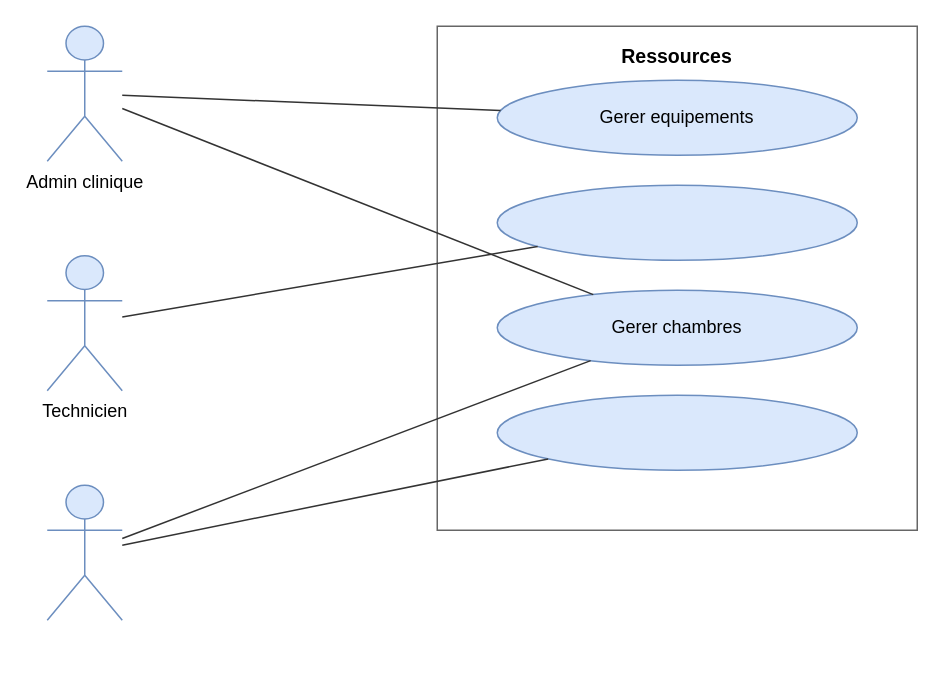
This 944x678 diagram has some shape labels left out. Here are the shapes that lost their labels. From the top down, the centre of each, then its label:
At [676,222]: "Declarer panne / maintenance".
At [676,432]: "Affecter / liberer chambre".
At [84,552]: "Secretaire".
